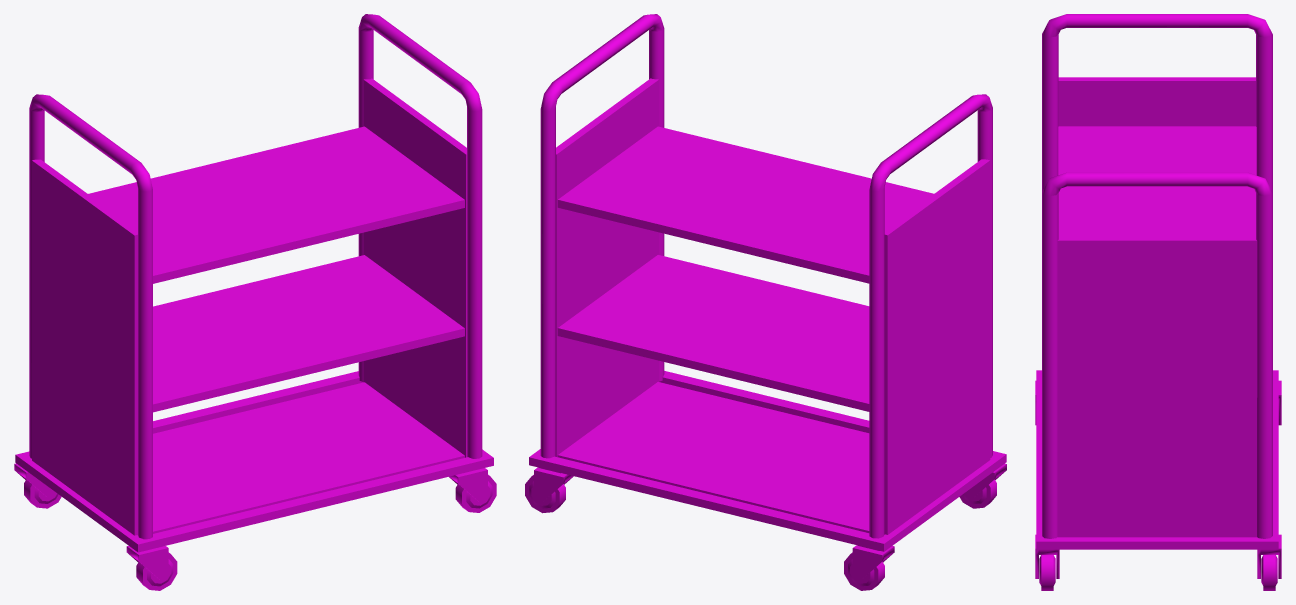
Rendered from Factory_Chariot_01_Lod0.fbx.
3 views of the same model, side by side, from view 1: azimuth 30°, elevation 25°; view 2: azimuth 150°, elevation 25°; view 3: azimuth 270°, elevation 25° (orthographic).
Visible parts, largest first — view 1: Factory_Chariot_01_Lod0; view 2: Factory_Chariot_01_Lod0; view 3: Factory_Chariot_01_Lod0.
Boxes of the visible parts, bbox=[...] form: Factory_Chariot_01_Lod0: bbox=[14, 14, 496, 590]; Factory_Chariot_01_Lod0: bbox=[525, 14, 1006, 590]; Factory_Chariot_01_Lod0: bbox=[1035, 14, 1281, 590].
Size of the model in its own units: 94.31 by 105 by 56.43.
